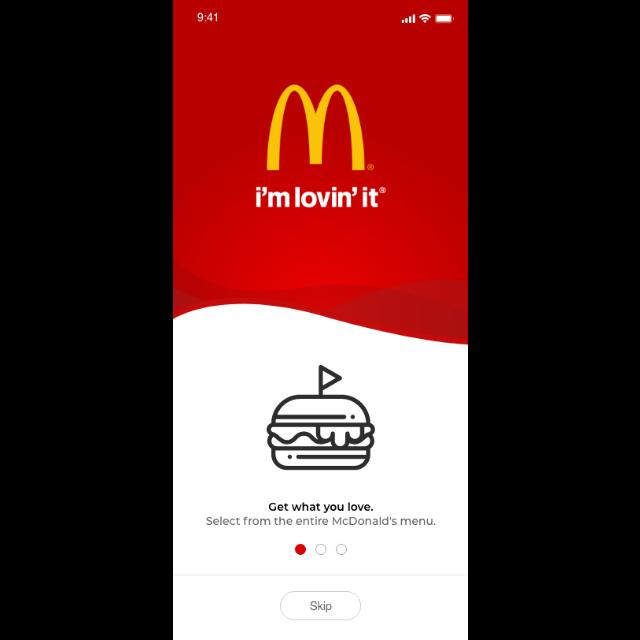image: (256, 84, 386, 208), (266, 364, 376, 470)
pageindicator: (294, 543, 348, 555)
text: (205, 516, 435, 526), (269, 502, 373, 514)
textbutton: (280, 590, 360, 620)
uppertaskbar: (196, 13, 454, 25)
